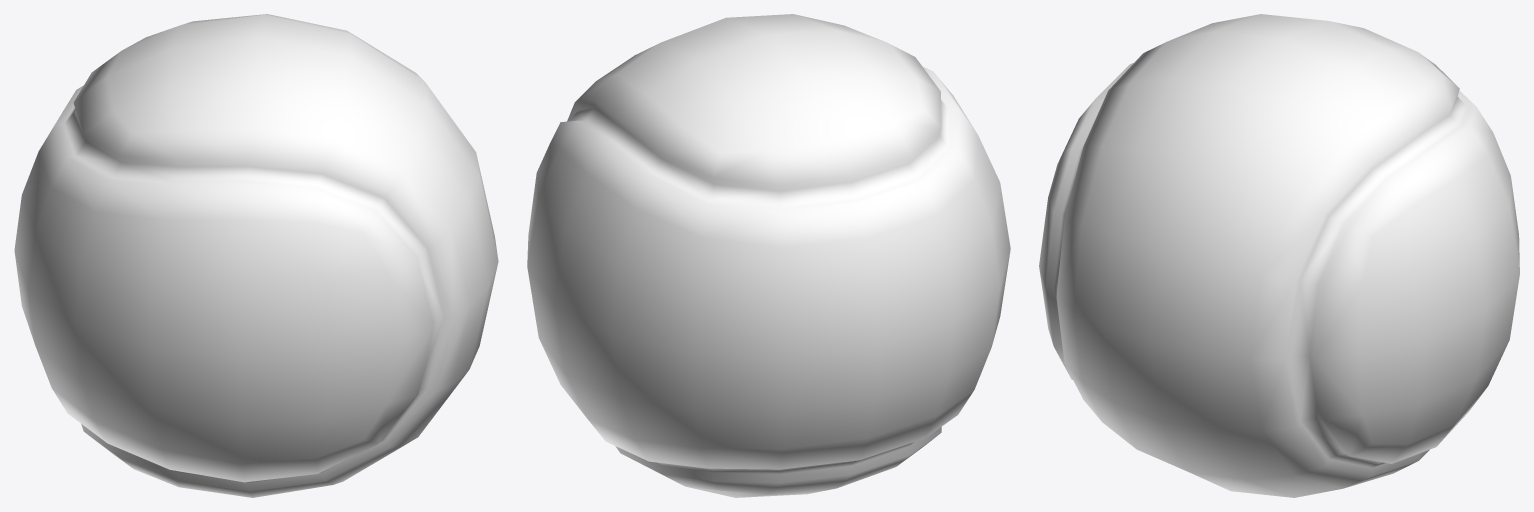
The model's file is wangqiu01.FBX.
3 renders of one model, left to right at view 1: azimuth 30°, elevation 25°; view 2: azimuth 150°, elevation 25°; view 3: azimuth 270°, elevation 25°, orthographic.
Parts seen in each view (by area): view 1: wangiu_02; view 2: wangiu_02; view 3: wangiu_02.
Part boxes in pixels (box(x1,y1,x2,y2)): wangiu_02: box(14, 14, 498, 497); wangiu_02: box(527, 14, 1010, 497); wangiu_02: box(1039, 14, 1519, 497).
Size of the model in its own units: 13.29 by 13.25 by 13.22.
